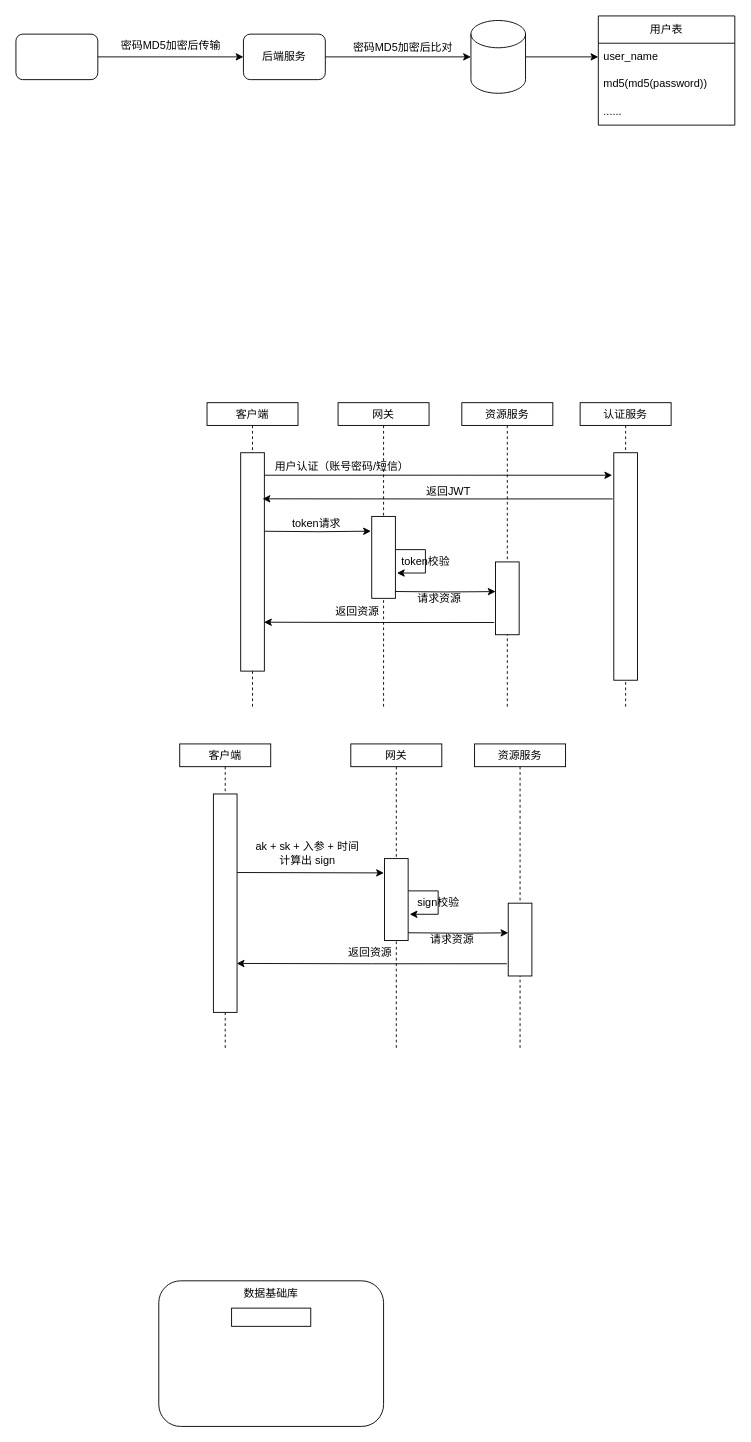
Some shapes in this 751 by 1442 pixel diagram are drawn without their labels. Here are the shapes that lost their labels. From the top down, the centre of each, then its label:
At point 56,56: "登录".
At point 498,56: "数据库".
At point 271,1316: "AES128加密".
